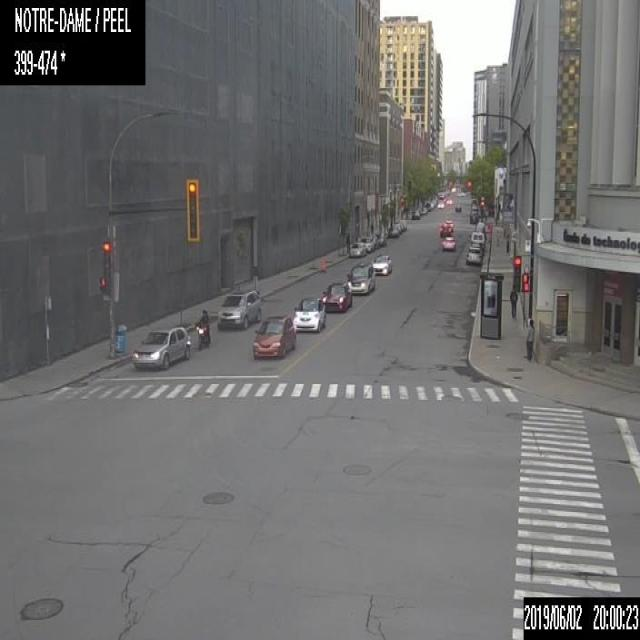pedestrian: (524, 317, 534, 360), (509, 288, 516, 317), (505, 232, 509, 252)
vehicle: (130, 324, 190, 368), (252, 315, 296, 359), (216, 288, 261, 328), (291, 296, 326, 332), (321, 281, 352, 312), (346, 264, 375, 294), (195, 308, 210, 345), (371, 254, 392, 275), (465, 245, 482, 265), (469, 230, 484, 250), (348, 241, 366, 257), (360, 236, 374, 252), (475, 221, 486, 238), (442, 236, 455, 250), (439, 222, 450, 236), (375, 232, 386, 245), (469, 210, 479, 222), (443, 219, 453, 231), (388, 224, 398, 236), (393, 222, 401, 234), (399, 218, 406, 229), (412, 209, 419, 219), (454, 204, 461, 212), (398, 221, 403, 231), (438, 200, 443, 208), (446, 198, 452, 204)
